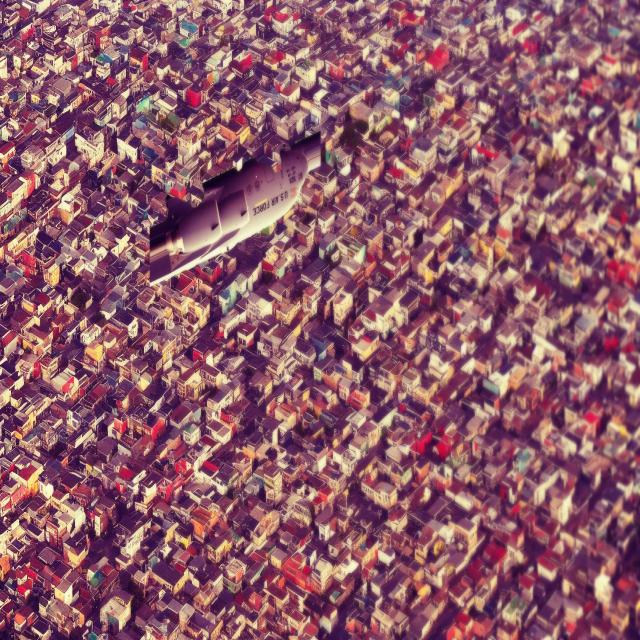airplane: (148, 130, 322, 287)
